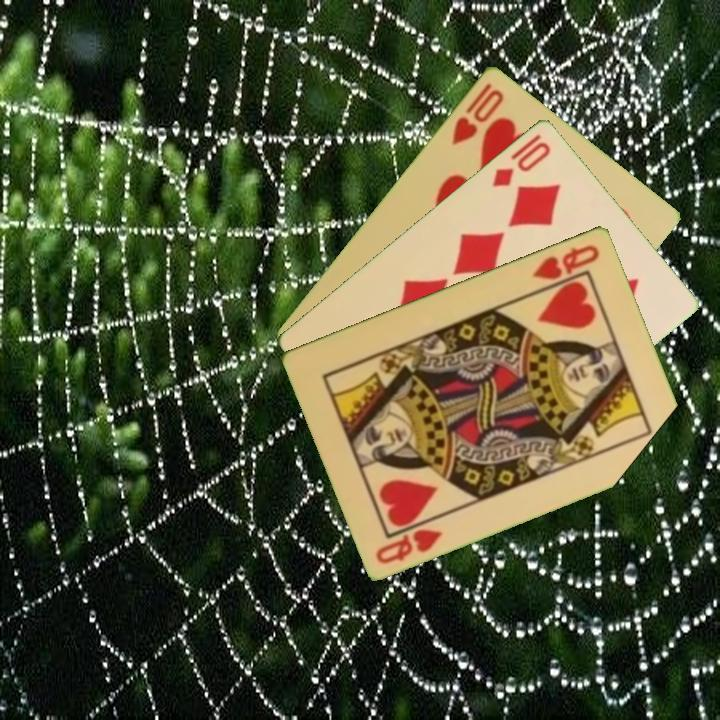10d: (488, 130, 554, 190)
10h: (448, 79, 507, 147)
Qh: (528, 240, 603, 283), (372, 524, 446, 566)
